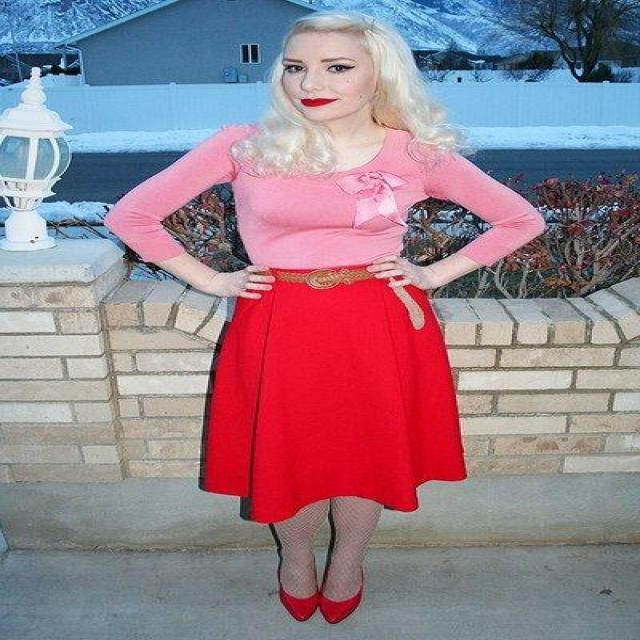shirt: (104, 127, 547, 276)
shoe: (278, 583, 360, 623)
skirt: (210, 280, 466, 522)
